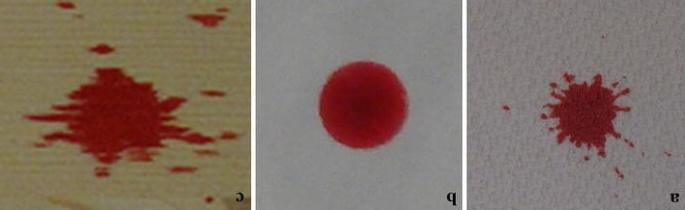Fire: (27, 67, 215, 164), (317, 60, 409, 150), (540, 72, 630, 158)
